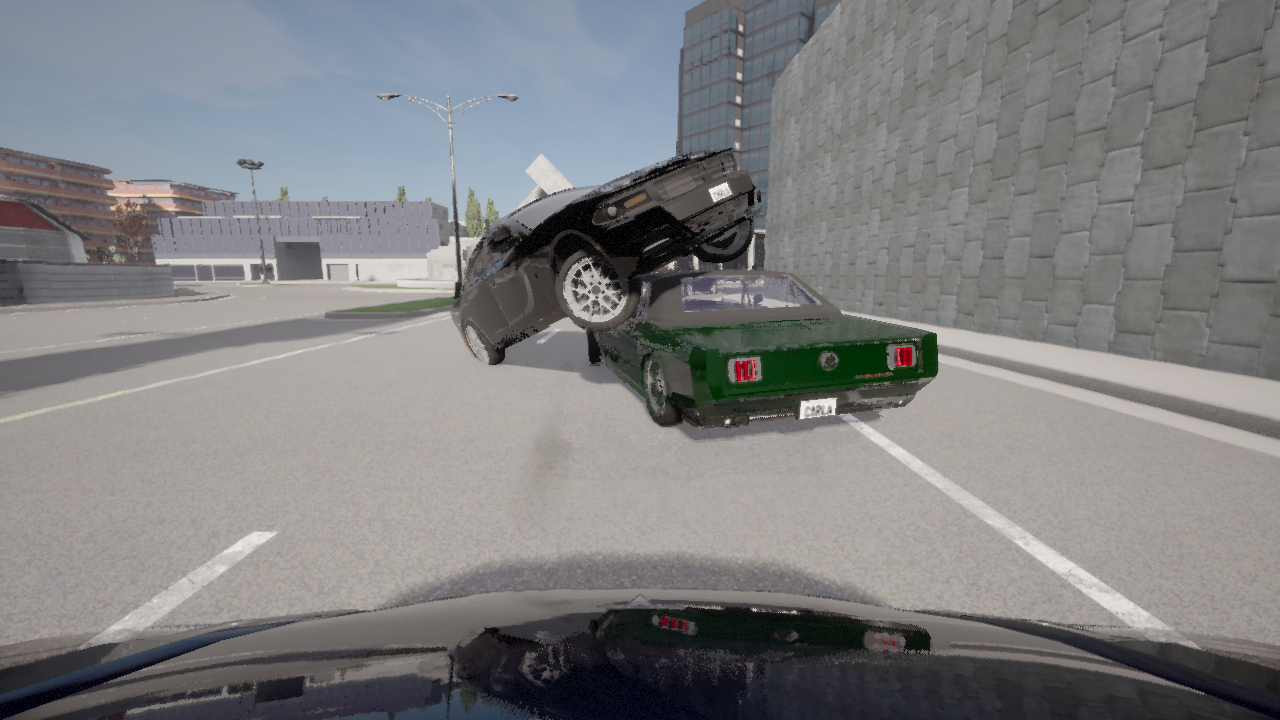cyclist: (0, 588, 1279, 719), (449, 147, 765, 365), (583, 270, 939, 429), (664, 267, 698, 272)
